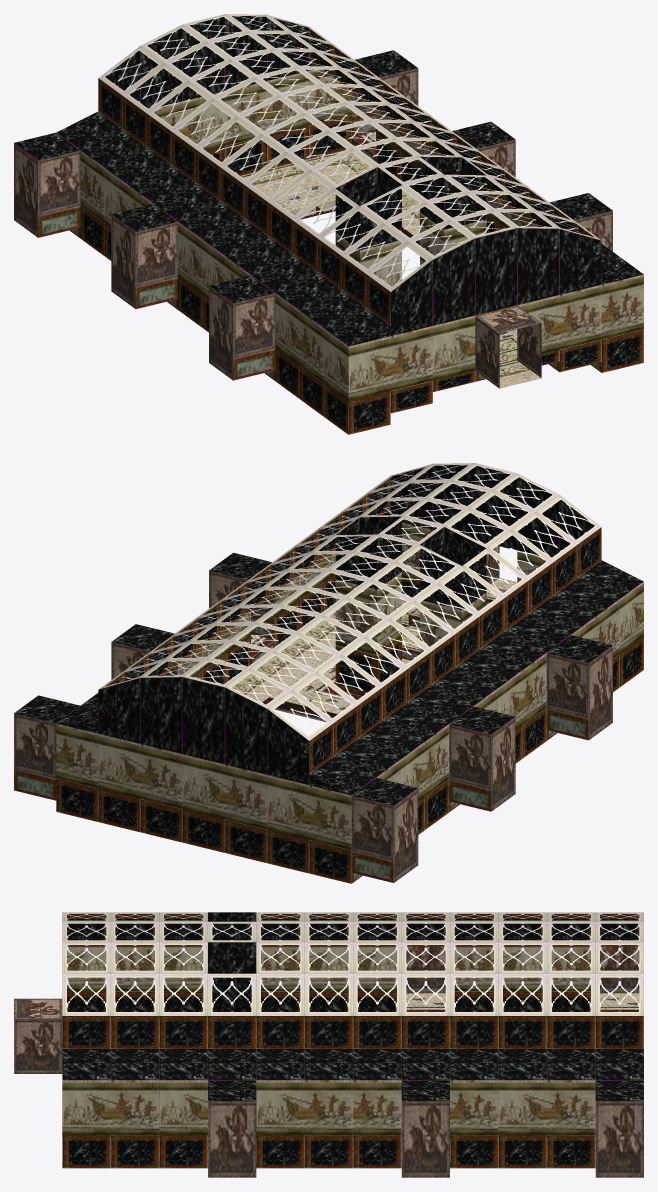
The model's file is dataRoom6.obj.
The picture shows the model from 3 angles, top to bottom: view 1: azimuth 30°, elevation 25°; view 2: azimuth 150°, elevation 25°; view 3: azimuth 270°, elevation 25°; orthographic projection.
Parts seen in each view (by area): view 1: Texture_258_mesh_.006; view 2: Texture_258_mesh_.006; view 3: Texture_258_mesh_.006.
Boxes of the visible parts, x1,y1,x2,y2 form: Texture_258_mesh_.006: [14, 14, 643, 434]; Texture_258_mesh_.006: [14, 463, 643, 883]; Texture_258_mesh_.006: [14, 912, 643, 1177].
Size of the model in its own units: 9.22 by 4.1 by 13.31.
